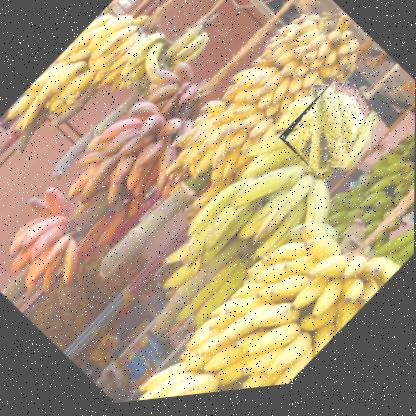banana: (276, 76, 382, 190)
